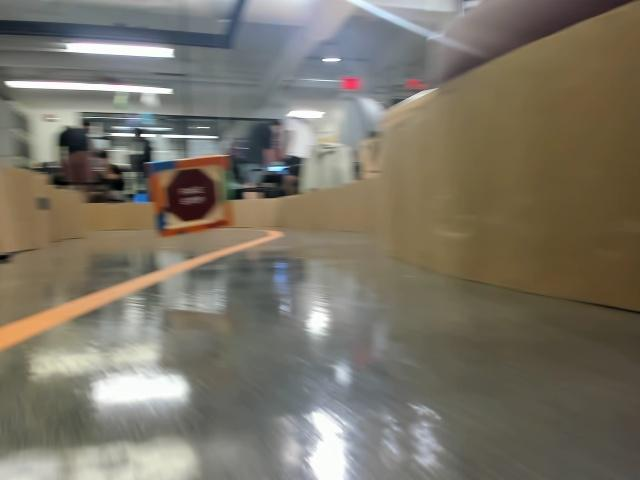Fake Stop: (164, 172, 212, 224)
